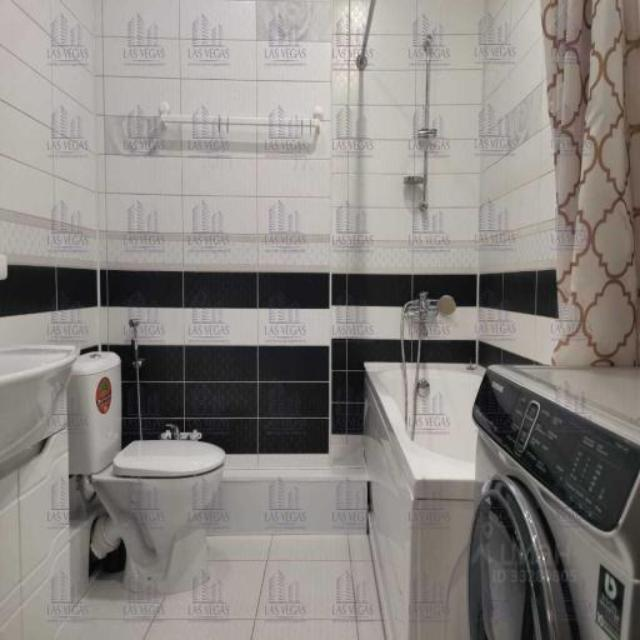Washing-Machine: (468, 364, 638, 638)
